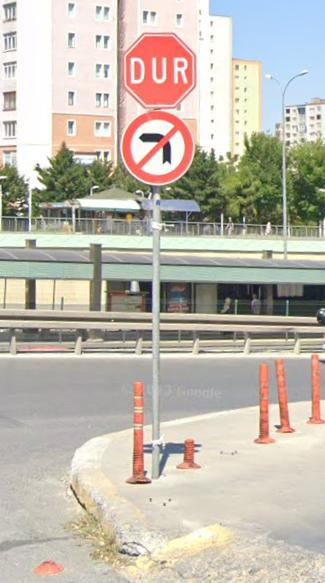leftturnsareforbidden: (122, 115, 196, 178)
stop: (122, 32, 197, 108)
